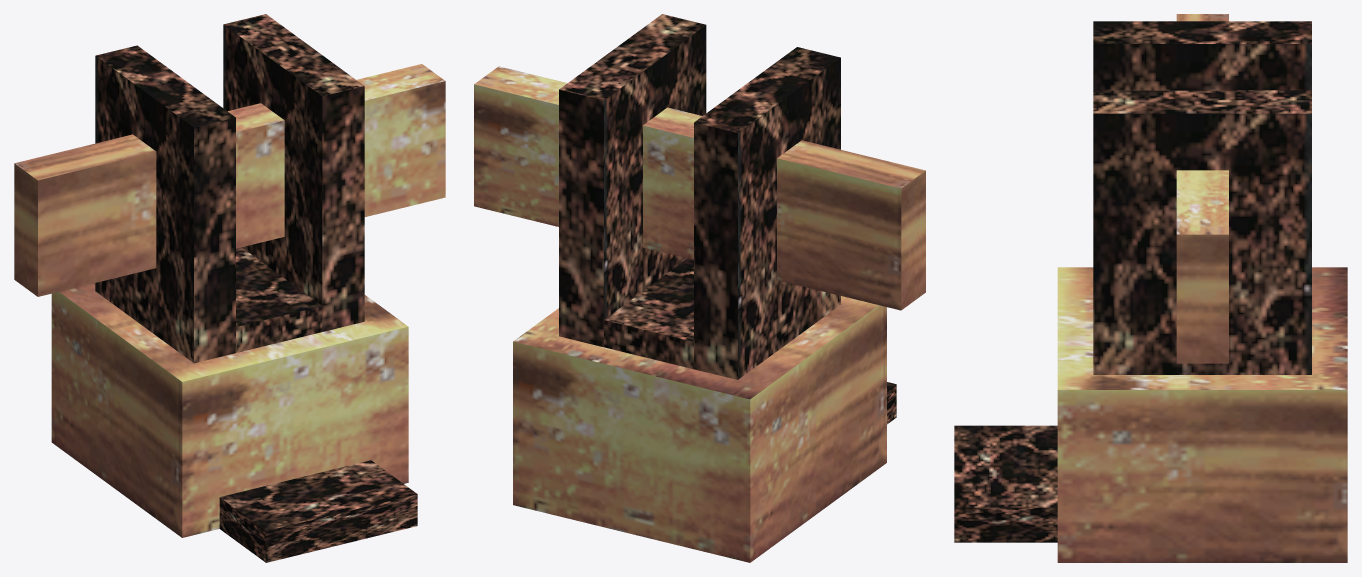
Rendered from frn_all_decorative_sm_s4_l1.fbx.
3 renders of one model, left to right at view 1: azimuth 30°, elevation 25°; view 2: azimuth 150°, elevation 25°; view 3: azimuth 270°, elevation 25°, orthographic. The views are drawn at different scales.
Visible parts, largest first — view 1: mesh_node; view 2: mesh_node; view 3: mesh_node.
Part boxes in pixels (x1,y1,x2,y2): mesh_node: (14, 14, 445, 562); mesh_node: (474, 14, 925, 562); mesh_node: (954, 14, 1347, 562).
Size of the model in its own units: 0.7203 by 0.6613 by 0.5424.
Materials: 1 (1 with a texture image).
